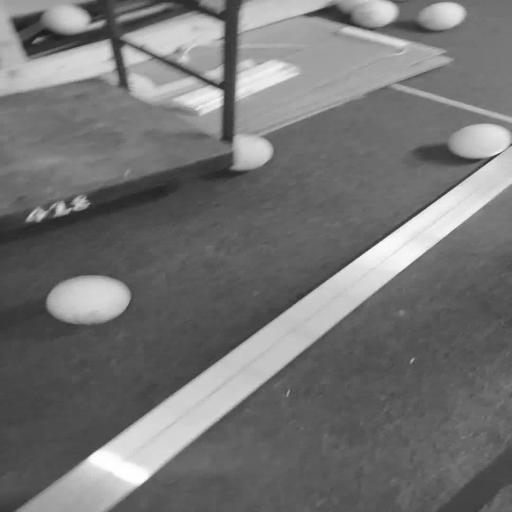fuel: (46, 275, 131, 325), (448, 123, 512, 159), (231, 134, 273, 171), (41, 5, 91, 35), (417, 2, 466, 31), (351, 0, 399, 29), (128, 73, 156, 101), (338, 0, 370, 14), (105, 72, 119, 85)
